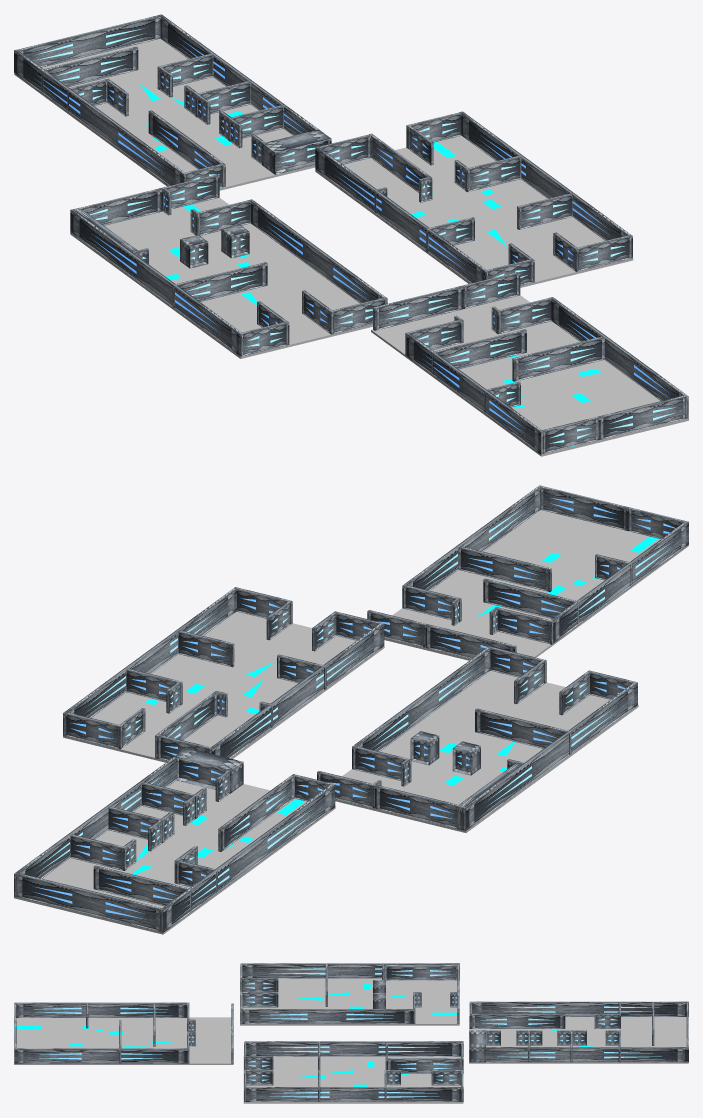
File: Mapa.fbx
3 renders of one model, top to bottom at view 1: azimuth 30°, elevation 25°; view 2: azimuth 150°, elevation 25°; view 3: azimuth 270°, elevation 25°, orthographic. The views are drawn at different scales.
Parts seen in each view (by area): view 1: Cube.038, Cube.033, Cube.068, Cube, Cube.052, Cube.017, Cube.021, Cube.055, Cube.022, Cube.001, Cube.051, Cube.056 (+33 smaller); view 2: Cube.038, Cube.033, Cube.068, Cube, Cube.052, Cube.017, Cube.021, Cube.022, Cube.001, Cube.055, Cube.051, Cube.016 (+34 smaller); view 3: Cube.068, Cube.033, Cube.038, Cube, Cube.021, Cube.022, Cube.016, Cube.017, Cube.056, Cube.055, Cube.051, Cube.052 (+13 smaller).
Boxes of the visible parts, box(x1,y1,x2,y2) form: Cube.038: box(315, 136, 633, 287); Cube.033: box(70, 197, 372, 358); Cube.068: box(371, 295, 688, 456); Cube: box(14, 38, 315, 190); Cube.052: box(70, 209, 241, 355); Cube.017: box(14, 49, 184, 185); Cube.021: box(315, 146, 486, 283); Cube.055: box(407, 333, 543, 454); Cube.022: box(460, 111, 630, 240); Cube.001: box(17, 15, 160, 67); Cube.051: box(250, 200, 387, 304); Cube.056: box(551, 298, 688, 418); Cube.038: box(63, 611, 384, 762); Cube.033: box(335, 670, 638, 832); Cube.068: box(384, 510, 688, 660); Cube: box(14, 780, 335, 934); Cube.052: box(463, 683, 637, 831); Cube.017: box(160, 785, 334, 932); Cube.021: box(209, 624, 383, 758); Cube.022: box(63, 588, 236, 736); Cube.001: box(17, 873, 161, 931); Cube.055: box(550, 521, 688, 643); Cube.051: box(353, 647, 490, 751); Cube.016: box(14, 757, 177, 896); Cube.068: box(14, 1017, 233, 1064); Cube.033: box(240, 978, 459, 1025); Cube.038: box(243, 1056, 463, 1103); Cube: box(469, 1016, 688, 1063); Cube.021: box(245, 1041, 463, 1056); Cube.022: box(246, 1087, 463, 1101); Cube.016: box(486, 1047, 688, 1062); Cube.017: box(472, 1001, 688, 1016); Cube.056: box(14, 1048, 187, 1063); Cube.055: box(14, 1002, 187, 1017); Cube.051: box(242, 1009, 413, 1023); Cube.052: box(241, 963, 459, 978).
Size of the model in its own units: 26811 by 1598 by 61450.
